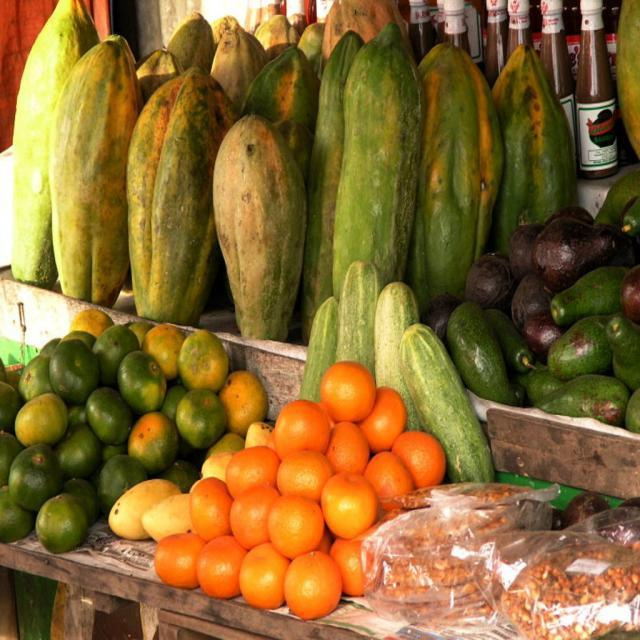Cucumber: (392, 332, 488, 461), (370, 279, 420, 427), (338, 258, 380, 380), (300, 298, 338, 400)
